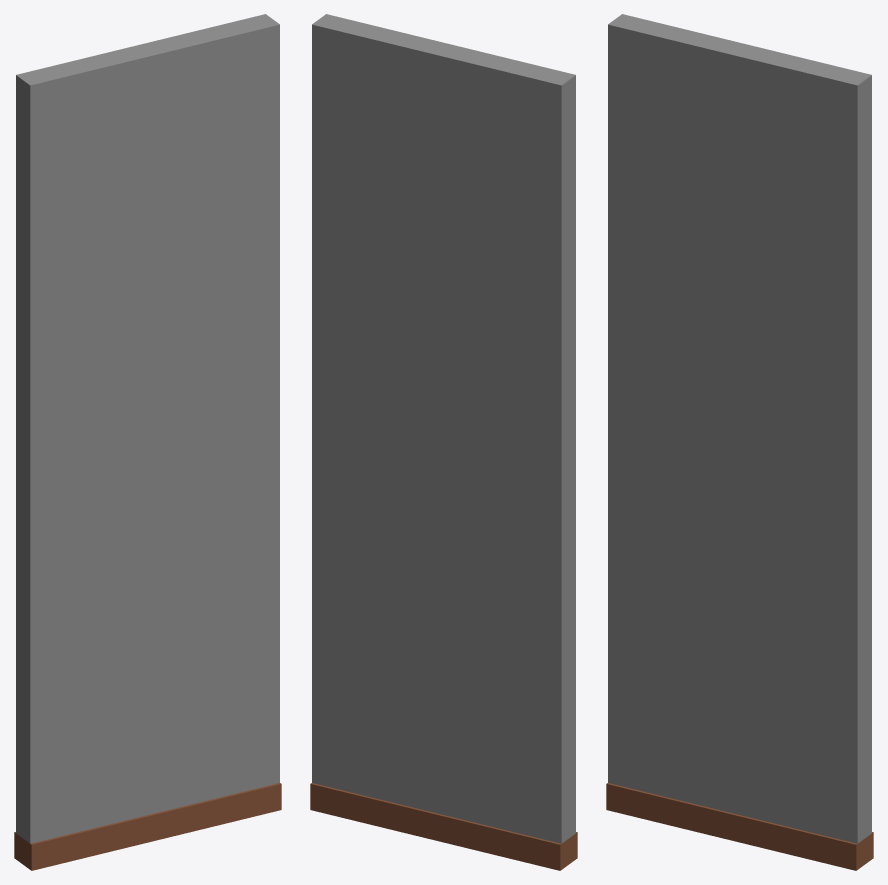
File: Mur02_t2.FBX
3 views of the same model, side by side, from view 1: azimuth 30°, elevation 25°; view 2: azimuth 150°, elevation 25°; view 3: azimuth 330°, elevation 25° (orthographic).
Visible parts, largest first — view 1: mur 100; view 2: mur 100; view 3: mur 100.
Boxes of the visible parts, box(x1,y1,x2,y2) form: mur 100: box(14, 14, 281, 870); mur 100: box(310, 14, 577, 870); mur 100: box(606, 14, 873, 870).
Bounding box in the file's own units: 100 × 300 × 12.
